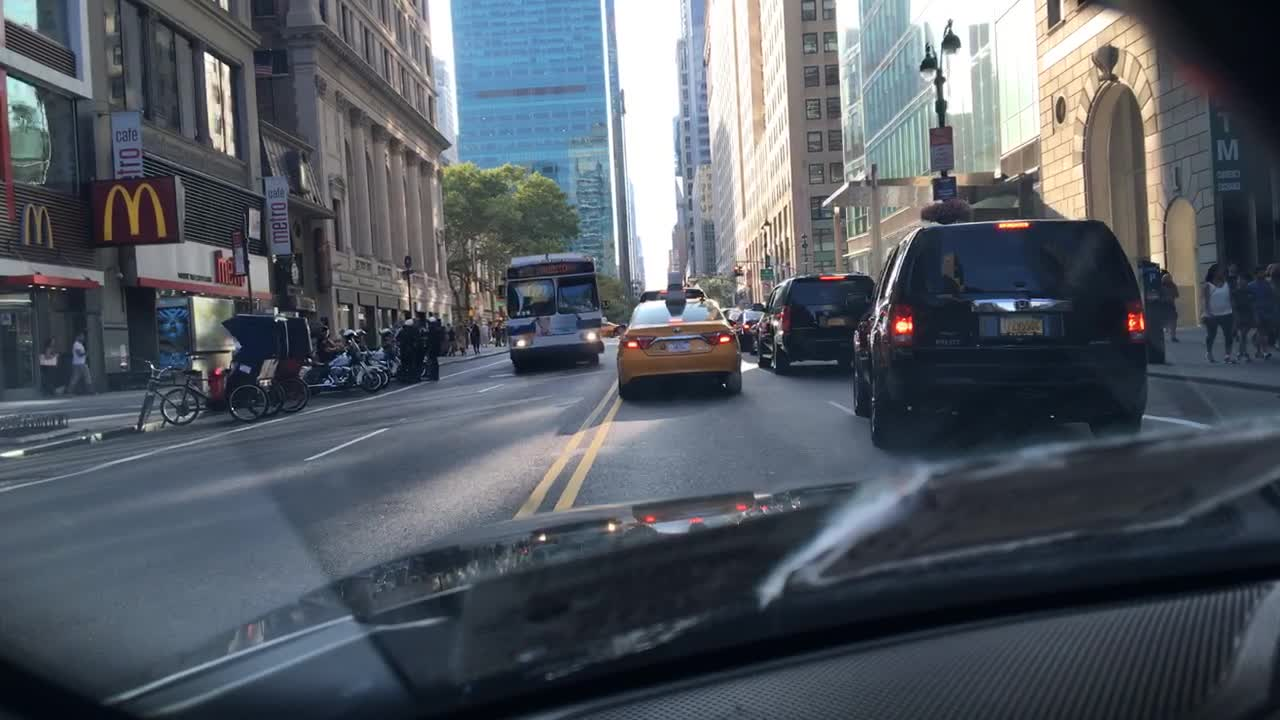bike: (133, 309, 291, 432), (162, 313, 313, 415)
bus: (499, 247, 605, 371)
car: (853, 217, 1144, 450), (615, 268, 742, 406), (752, 272, 875, 376), (729, 309, 761, 344), (721, 306, 739, 321), (601, 319, 617, 335)
motor: (300, 321, 383, 396), (353, 324, 386, 391)
person: (1200, 259, 1235, 366), (1226, 265, 1251, 365), (62, 330, 98, 396), (1249, 264, 1273, 360), (394, 316, 421, 386), (1155, 270, 1179, 346), (41, 331, 62, 400), (421, 313, 439, 381), (1260, 260, 1277, 301), (442, 318, 457, 360), (467, 320, 481, 354), (491, 321, 501, 350)
rider: (316, 323, 338, 363)
traffic sign: (925, 126, 953, 170), (229, 229, 244, 277), (932, 173, 955, 199)
